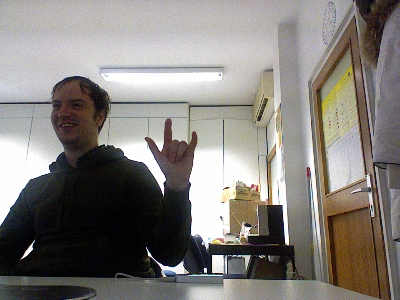我爱你: (142, 116, 197, 183)
